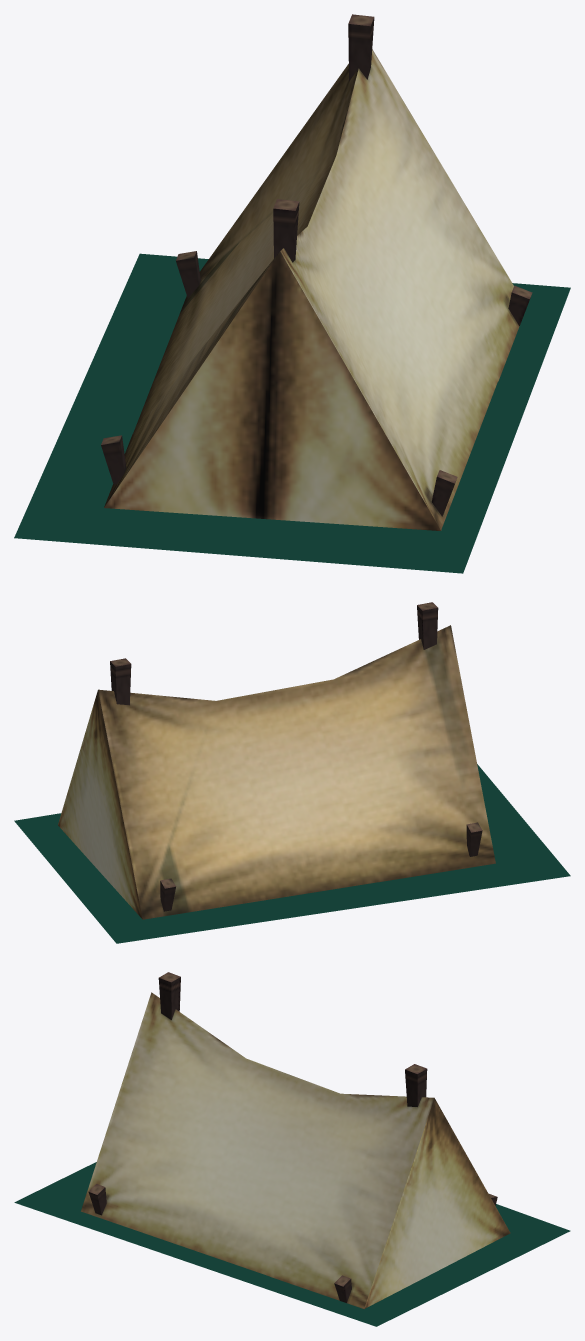
Rendered from Tent.FBX.
The picture shows the model from 3 angles, top to bottom: view 1: azimuth 30°, elevation 25°; view 2: azimuth 150°, elevation 25°; view 3: azimuth 270°, elevation 25°; orthographic projection. The views are drawn at different scales.
Visible parts, largest first — view 1: Tent, TentShadow; view 2: Tent, TentShadow; view 3: Tent, TentShadow.
Boxes of the visible parts, x1,y1,x2,y2 form: Tent: [101, 14, 532, 530]; TentShadow: [14, 253, 570, 573]; Tent: [58, 602, 495, 919]; TentShadow: [14, 764, 570, 943]; Tent: [81, 972, 510, 1308]; TentShadow: [14, 1162, 570, 1326].
Size of the model in its own units: 420 by 186 by 441.
